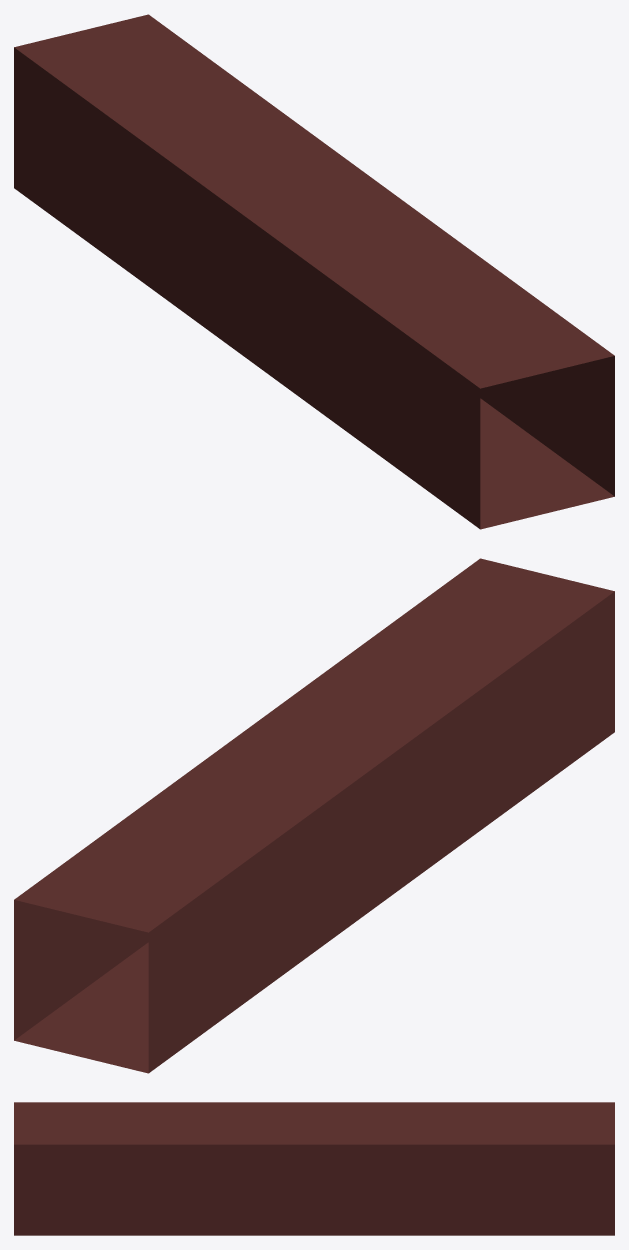
Rendered from Plank_5.fbx.
3 views of the same model, one above another, from view 1: azimuth 30°, elevation 25°; view 2: azimuth 150°, elevation 25°; view 3: azimuth 270°, elevation 25° (orthographic). The views are drawn at different scales.
Parts seen in each view (by area): view 1: Plank_5; view 2: Plank_5; view 3: Plank_5.
Boxes of the visible parts, box(x1,y1,x2,y2) form: Plank_5: box(14, 14, 614, 529); Plank_5: box(14, 558, 614, 1073); Plank_5: box(14, 1102, 614, 1235).
Bounding box in the file's own units: 0.4 × 2.4 × 0.4.
